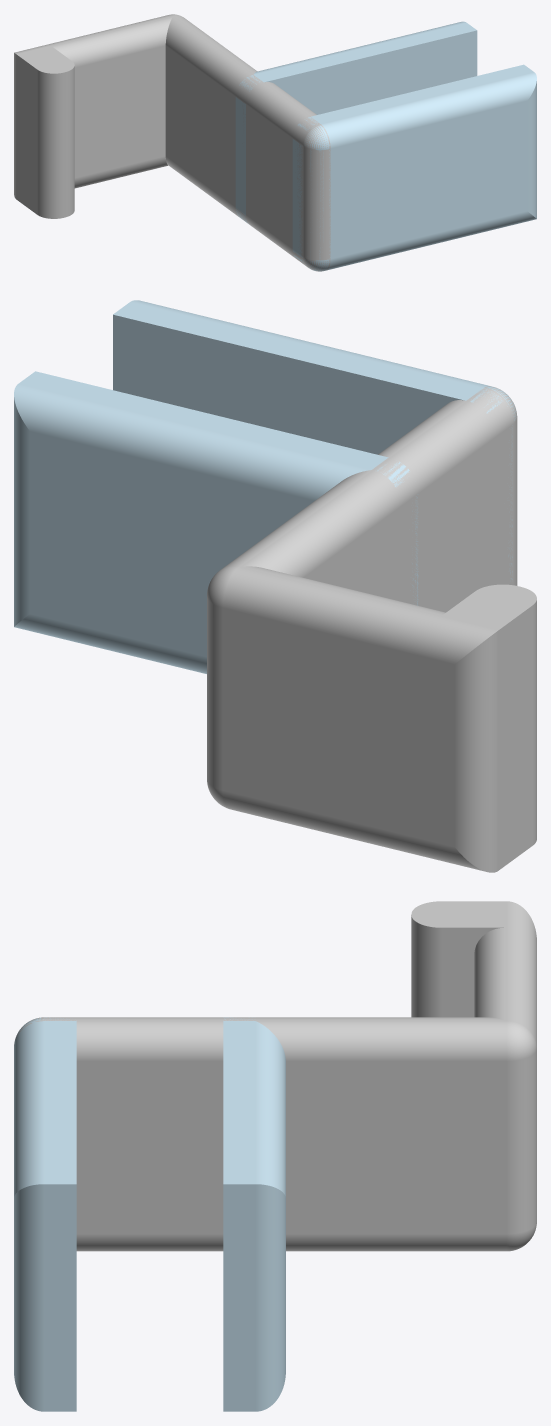
File: hook-v1.glb
The picture shows the model from 3 angles, top to bottom: view 1: azimuth 30°, elevation 25°; view 2: azimuth 150°, elevation 25°; view 3: azimuth 270°, elevation 25°; orthographic projection. The views are drawn at different scales.
Parts seen in each view (by area): view 1: Part 3, Part 2, Part 1; view 2: Part 3, Part 1, Part 2; view 3: Part 3, Part 2, Part 1.
Boxes of the visible parts, x1,y1,x2,y2 form: Part 3: [14, 14, 330, 271]; Part 2: [292, 64, 536, 271]; Part 1: [235, 21, 477, 223]; Part 3: [207, 386, 536, 872]; Part 1: [14, 371, 418, 673]; Part 2: [113, 300, 516, 581]; Part 3: [14, 901, 536, 1251]; Part 2: [14, 1017, 76, 1411]; Part 1: [223, 1017, 285, 1411].
Size of the model in its own units: 0.2032 by 0.0762 by 0.1587.
